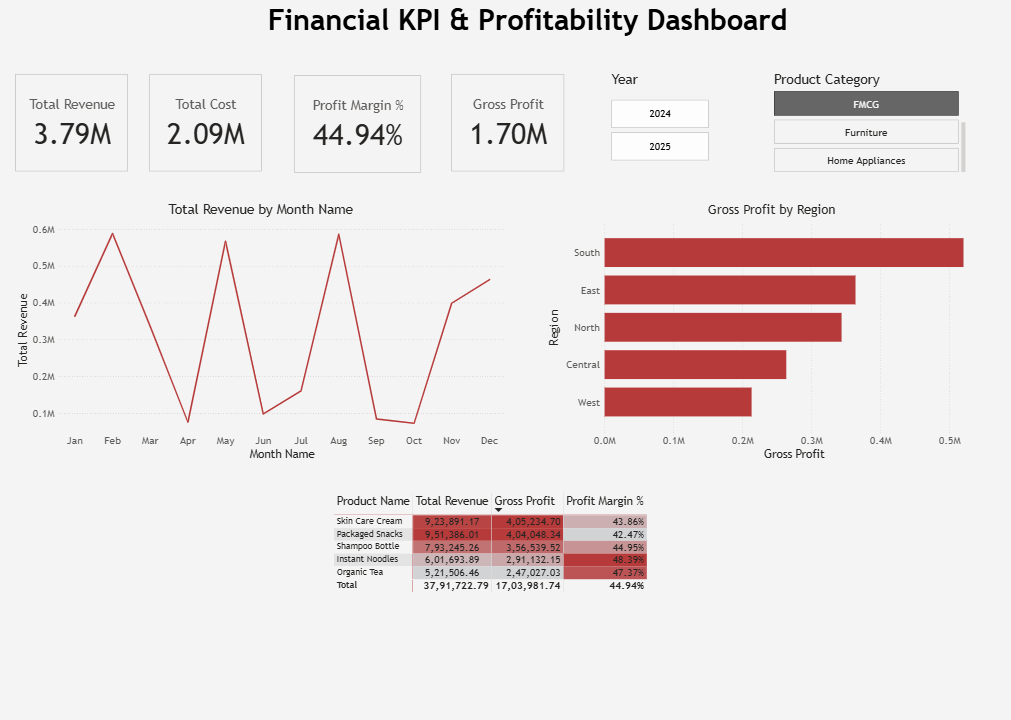

The page's visual inventory and layout, read from the dashboard file:
{"tool":"powerbi","page":{"name":"Page 1","canvas":[2000,1800],"ordinal":0},"visuals":[{"type":"cardVisual","fields":{"Data":["_Measures .Total Revenue"]},"box":[35.6,191.1,230,200],"z":0},{"type":"cardVisual","fields":{"Data":["_Measures .Total Cost"]},"box":[297.8,191.1,230,200],"z":1000},{"type":"cardVisual","fields":{"Data":["_Measures .Profit Margin %"]},"box":[580.6,191.7,258.3,200],"z":2000},{"type":"cardVisual","fields":{"Data":["_Measures .Gross Profit"]},"box":[888.9,191.1,230,200],"z":3000},{"type":"lineChart","fields":{"Category":["Date Table.Month Name"],"Y":["_Measures .Total Revenue"]},"box":[40,445,962.5,510],"z":4000},{"type":"clusteredBarChart","fields":{"Category":["Financial_KPI_Data.Region"],"Y":["_Measures .Gross Profit"]},"box":[1075,444.4,883.3,511.1],"z":5000},{"type":"advancedSlicerVisual","fields":{"Values":["Date Table.Year"]},"box":[1200,190.3,200,200],"z":6000},{"type":"advancedSlicerVisual","fields":{"Values":["Financial_KPI_Data.Product Category"]},"box":[1516.1,190.3,383.9,200],"z":7000},{"type":"pivotTable","fields":{"Rows":["Financial_KPI_Data.Product Name"],"Values":["_Measures .Total Revenue","_Measures .Gross Profit","_Measures .Profit Margin %"]},"box":[659.4,1006.2,687.5,431.2],"z":8000},{"type":"textbox","box":[528.2,51.3,1061.5,84.6],"z":10000}]}

Visuals, with their boxes on the page's 2000x1800 design canvas (x1, y1, x2, y2). These are canvas units, not pixel positions in the 1011x720 screenshot, which may show the page scaled, cropped or inside an application window:
cardVisual - _Measures .Total Revenue: pyautogui.locateOnScreen(36, 191, 266, 391)
cardVisual - _Measures .Total Cost: pyautogui.locateOnScreen(298, 191, 528, 391)
cardVisual - _Measures .Profit Margin %: pyautogui.locateOnScreen(581, 192, 839, 392)
cardVisual - _Measures .Gross Profit: pyautogui.locateOnScreen(889, 191, 1119, 391)
lineChart - Date Table.Month Name x _Measures .Total Revenue: pyautogui.locateOnScreen(40, 445, 1002, 955)
clusteredBarChart - Financial_KPI_Data.Region x _Measures .Gross Profit: pyautogui.locateOnScreen(1075, 444, 1958, 956)
advancedSlicerVisual - Date Table.Year: pyautogui.locateOnScreen(1200, 190, 1400, 390)
advancedSlicerVisual - Financial_KPI_Data.Product Category: pyautogui.locateOnScreen(1516, 190, 1900, 390)
pivotTable - Financial_KPI_Data.Product Name x _Measures .Total Revenue: pyautogui.locateOnScreen(659, 1006, 1347, 1437)
textbox: pyautogui.locateOnScreen(528, 51, 1590, 136)
